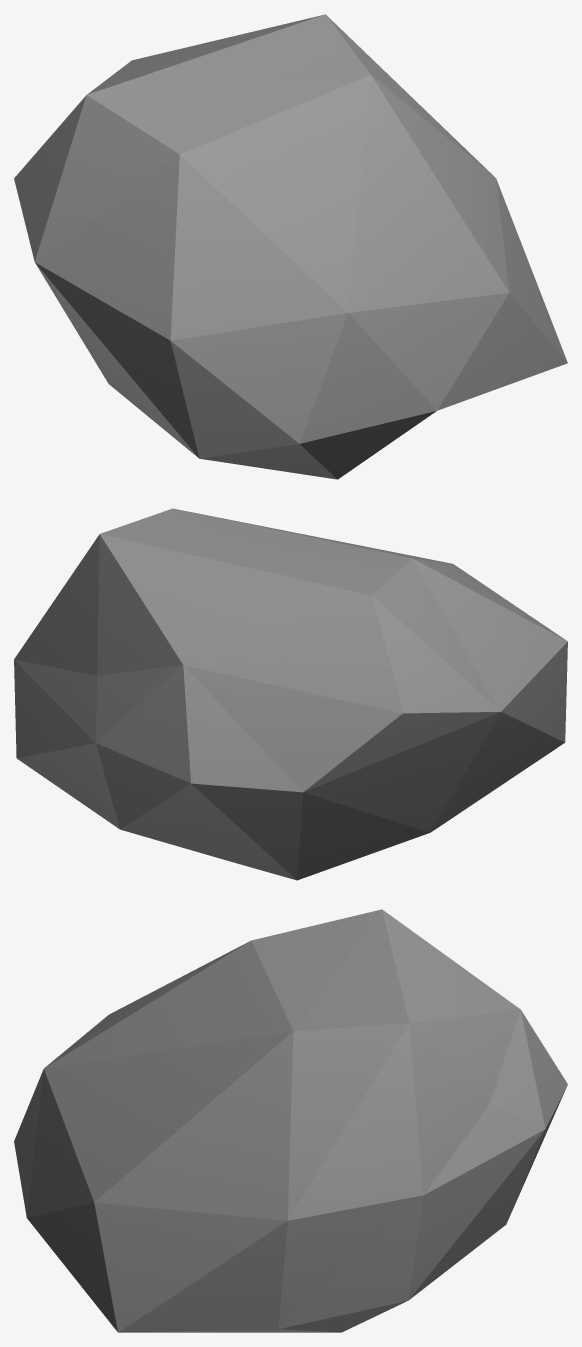
File: Rock_Big_6.fbx
3 views of the same model, one above another, from view 1: azimuth 30°, elevation 25°; view 2: azimuth 150°, elevation 25°; view 3: azimuth 270°, elevation 25° (orthographic). The views are drawn at different scales.
Visible parts, largest first — view 1: Rock_Big_6; view 2: Rock_Big_6; view 3: Rock_Big_6.
Part boxes in pixels (x1,y1,x2,y2): Rock_Big_6: (14,14,567,479); Rock_Big_6: (14,508,567,880); Rock_Big_6: (14,909,567,1332).
Bounding box in the file's own units: 338 × 217 × 360.
